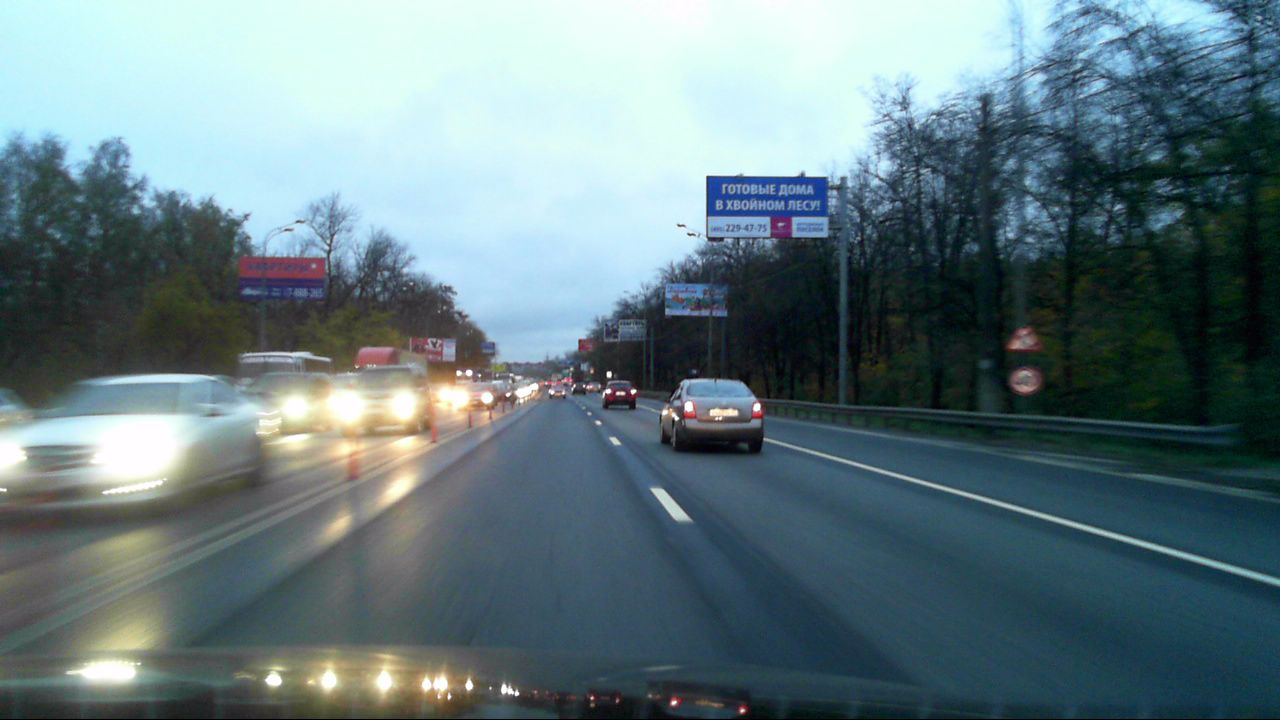speed_warning_40: (1010, 366, 1041, 396)
